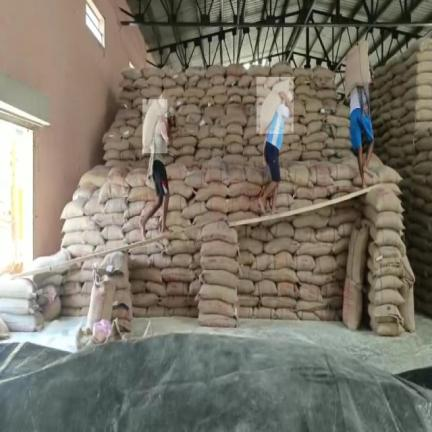Zone-Counting: (140, 97, 170, 236), (259, 80, 293, 200), (346, 41, 373, 187)
